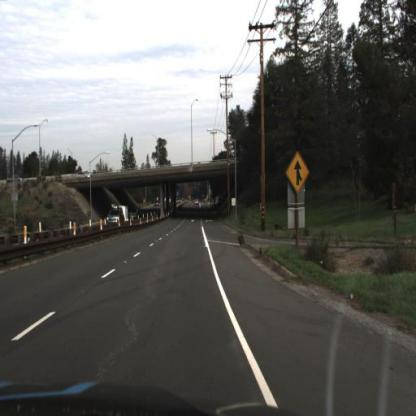car: (103, 205, 132, 228), (106, 208, 124, 225), (76, 168, 94, 182)
